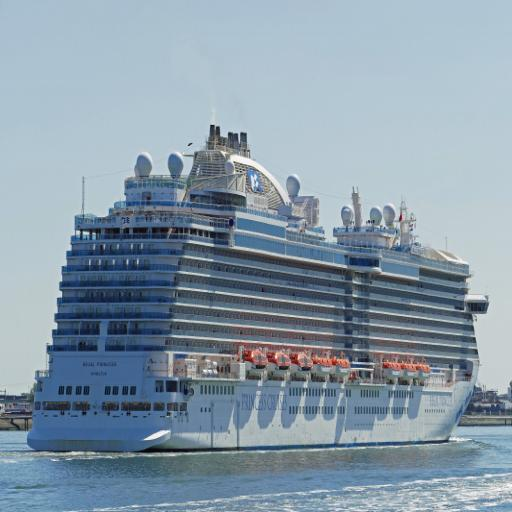cruises: (26, 120, 491, 459)
